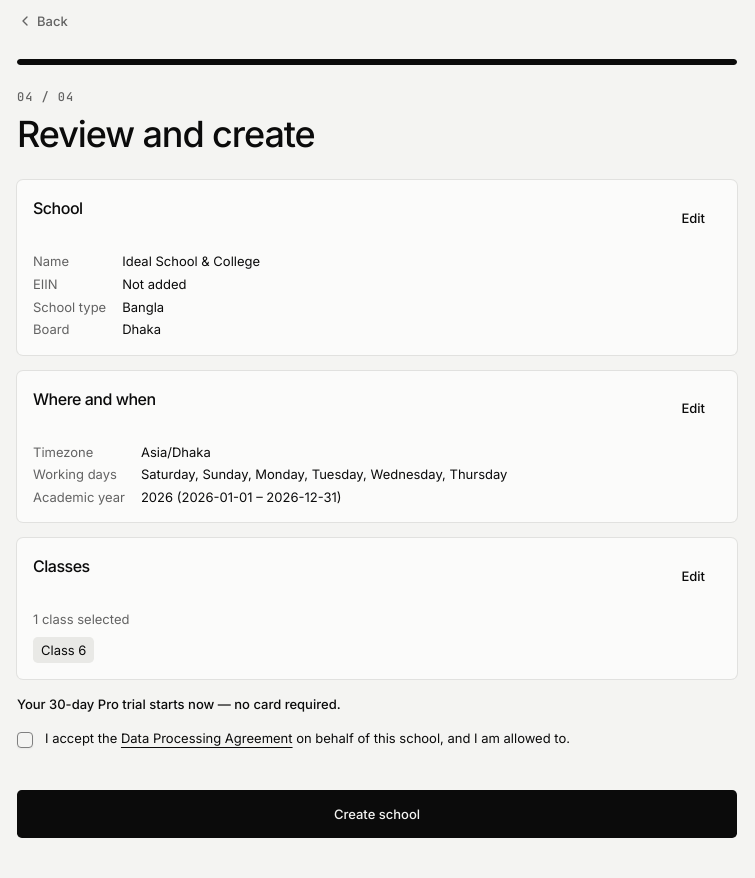
step 4 — review and create › asks for the DPA and creates nothing until it is accepted
Click the button "Create school".
click(377, 814)  # box [17, 790, 737, 838]
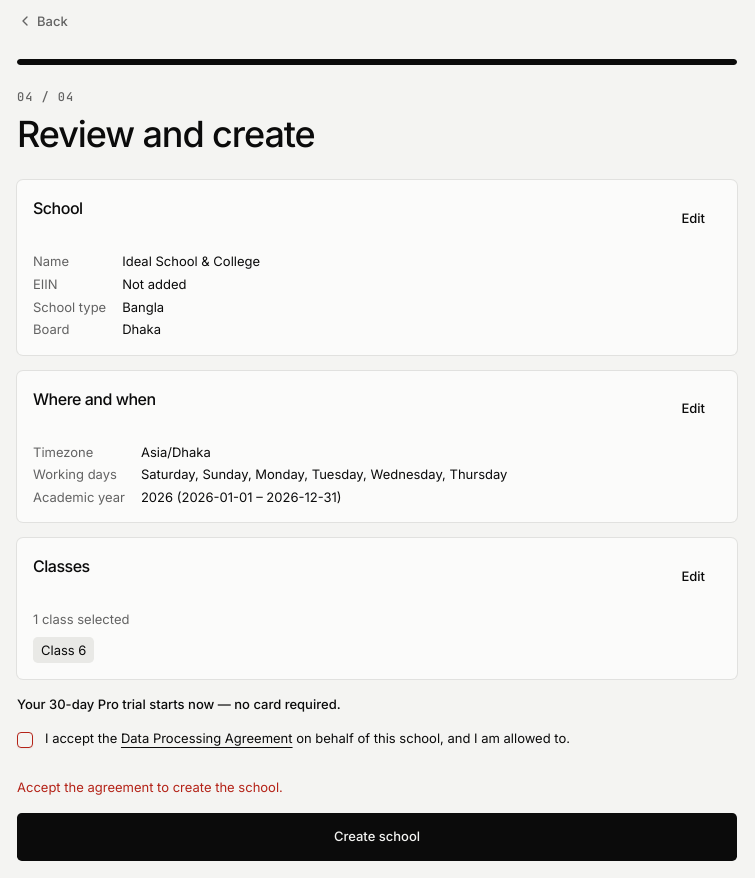
Result: the message reads "Accept the agreement to create the school." at [17, 779, 283, 795]
